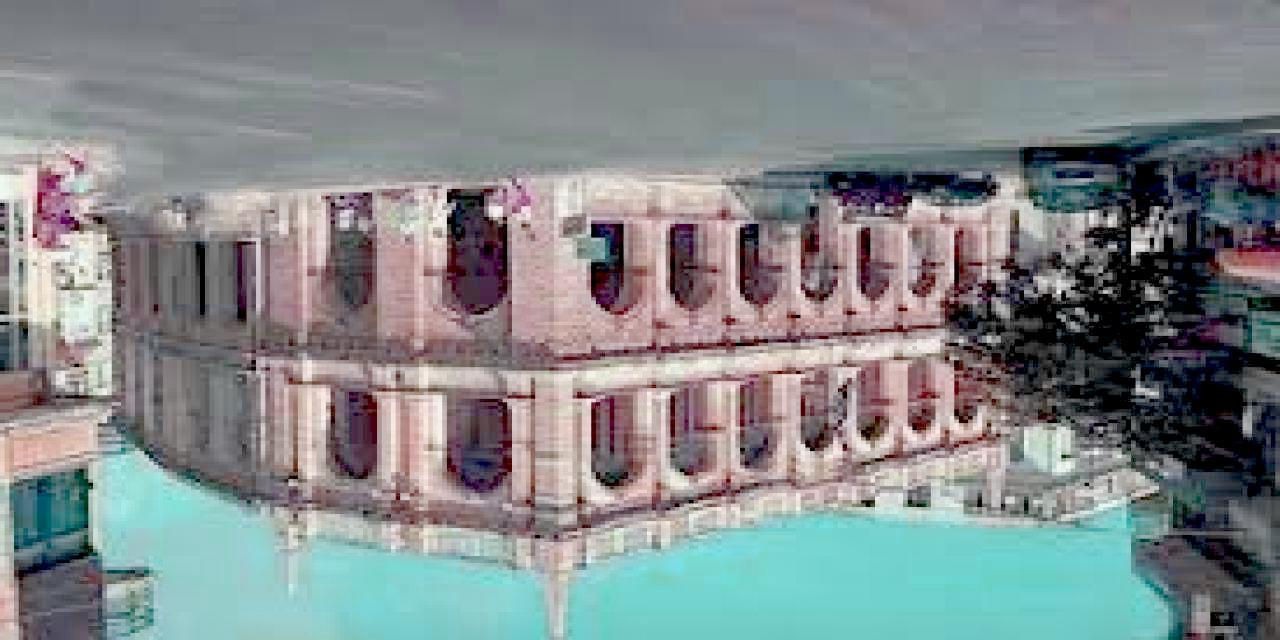Loggia: (97, 192, 1024, 637)
